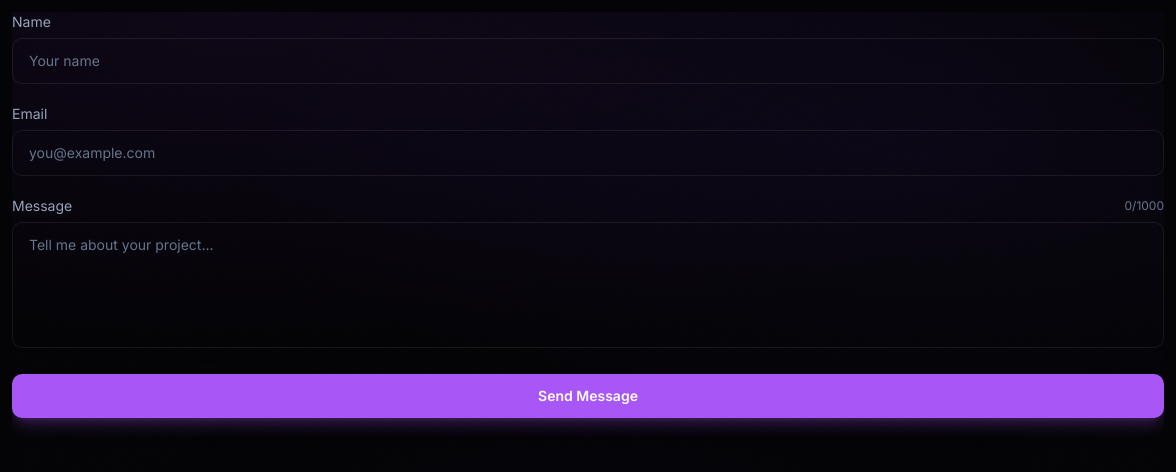
Test: ContactForm › shows validation error when message is too short
Step 1. Type "Jane" into the field labelled "Name" → x=588, y=61, box [12, 38, 1164, 84]
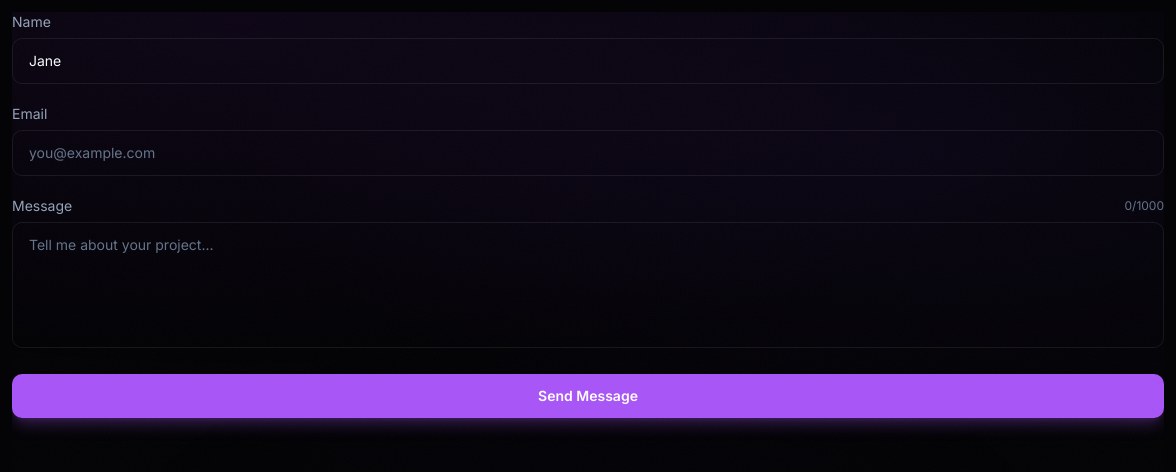
Step 2. Type "jane@example.com" into the field labelled "Email" → x=588, y=153, box [12, 130, 1164, 176]
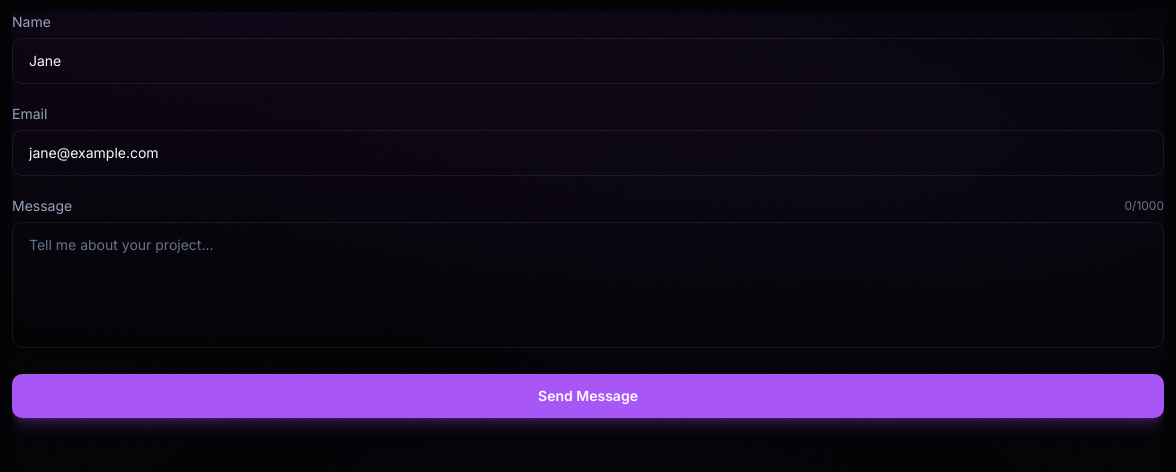
Step 3. Type "Hi" into the text box labelled "Message" → x=588, y=285, box [12, 222, 1164, 348]
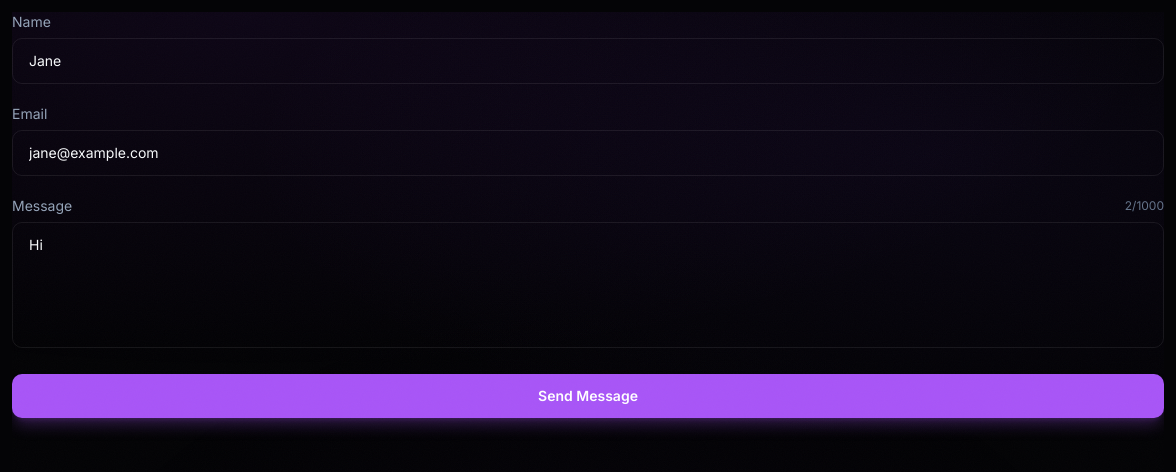
Step 4. Click the button "Send Message" → x=588, y=396, box [12, 374, 1164, 418]
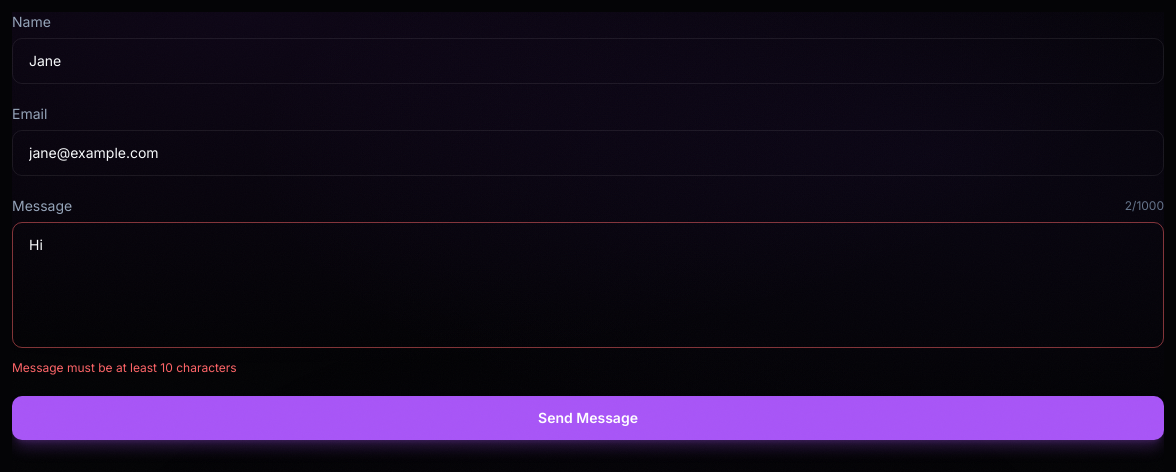
Result: the text with test id "message-error" reads "Message must be at least 10 characters" at [12, 360, 237, 375]
